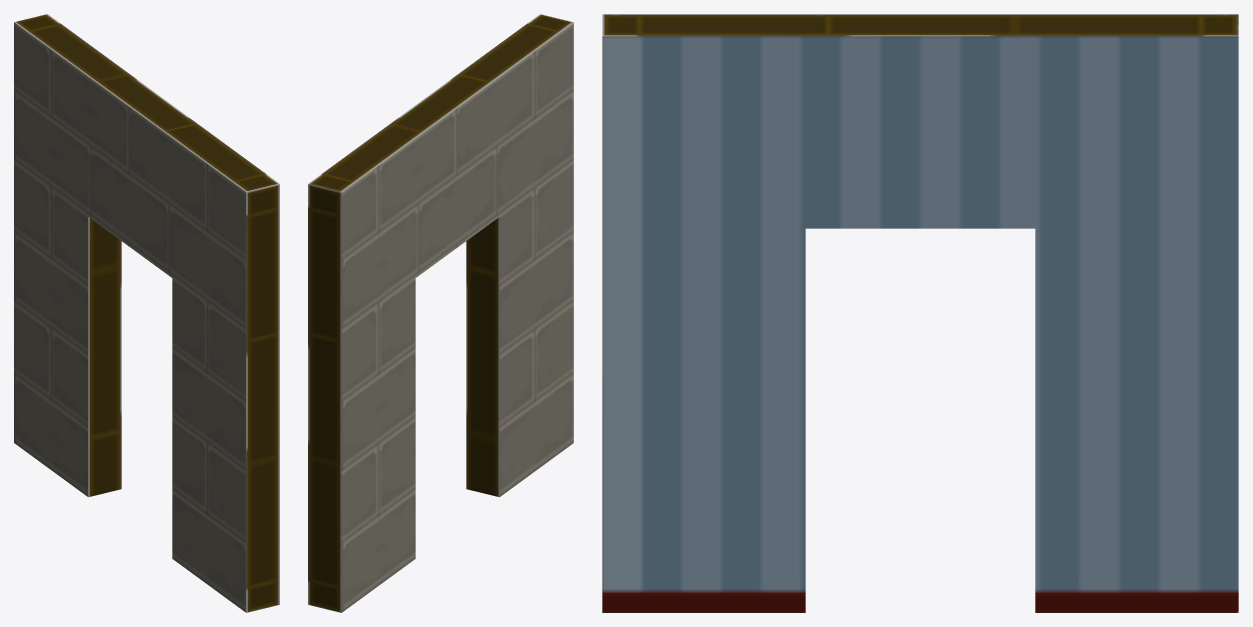
The model's file is Wall_Door_10.fbx.
3 views of the same model, side by side, from view 1: azimuth 30°, elevation 25°; view 2: azimuth 150°, elevation 25°; view 3: azimuth 270°, elevation 25° (orthographic). The views are drawn at different scales.
Visible parts, largest first — view 1: Wall_Door_10; view 2: Wall_Door_10; view 3: Wall_Door_10.
Part boxes in pixels (x1,y1,x2,y2): Wall_Door_10: (14, 14, 279, 612); Wall_Door_10: (308, 14, 573, 612); Wall_Door_10: (602, 14, 1238, 612).
Size of the model in its own units: 50 by 600 by 600.
